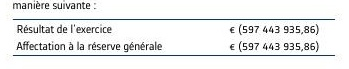table: (0, 0, 349, 69)
